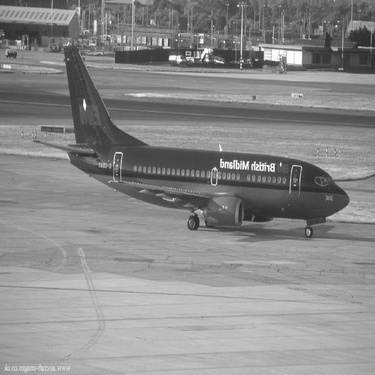airplane: (17, 42, 353, 246)
